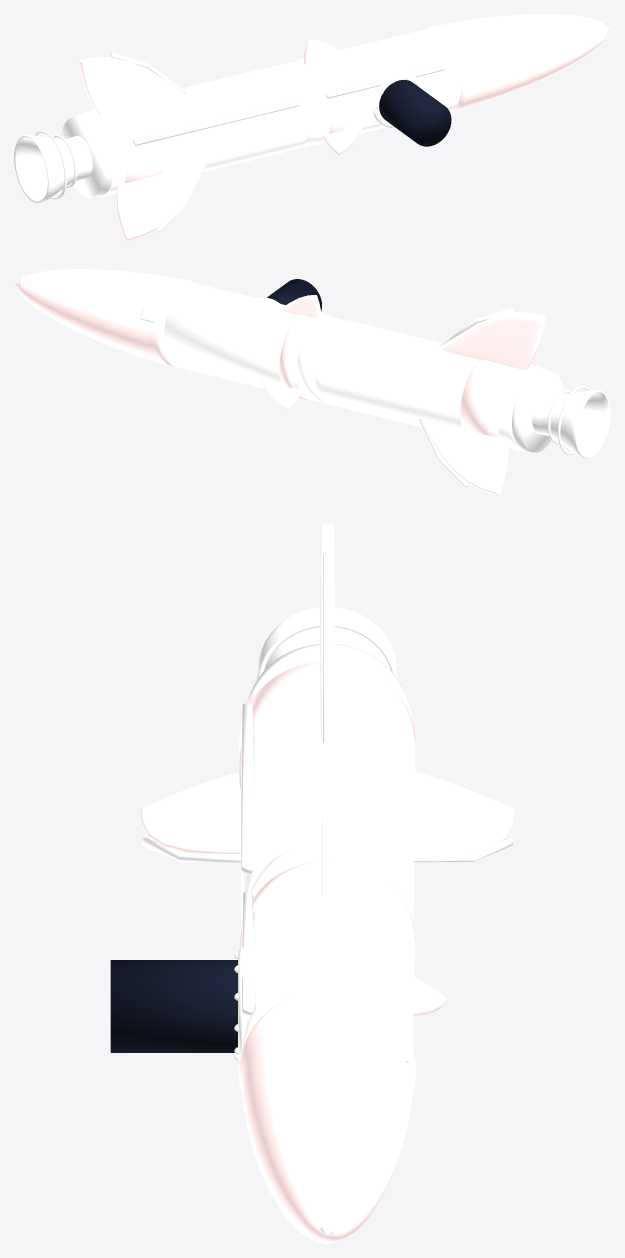
The model's file is roket.glb.
3 renders of one model, top to bottom at view 1: azimuth 30°, elevation 25°; view 2: azimuth 150°, elevation 25°; view 3: azimuth 270°, elevation 25°, orthographic. The views are drawn at different scales.
Visible parts, largest first — view 1: govde_1, burun, govde_2, nozul, kanat_1a, kanat_1b, pencere_oyuk, serit_1, itki_halkasi, ara_halka, kablo_kanali, serit_2 (+6 smaller); view 2: govde_1, govde_2, burun, nozul, kanat_1a, kanat_1c, serit_1, itki_halkasi, ara_halka, serit_2, pencere_oyuk, kanat_2a (+3 smaller); view 3: burun, govde_1, govde_2, pencere_oyuk, kanat_1b, kanat_1c, serit_1, nozul, ara_halka, serit_2, kablo_kanali, kanat_1a_kenar (+6 smaller).
Boxes of the visible parts, <box> form: govde_1: <box>81,65,309,196</box>; burun: <box>428,14,607,112</box>; govde_2: <box>296,28,461,144</box>; nozul: <box>14,135,92,203</box>; kanat_1a: <box>79,57,184,115</box>; kanat_1b: <box>116,164,202,240</box>; pencere_oyuk: <box>379,80,451,146</box>; serit_1: <box>91,104,164,194</box>; itki_halkasi: <box>61,113,112,197</box>; ara_halka: <box>279,60,328,147</box>; kablo_kanali: <box>133,100,300,145</box>; serit_2: <box>296,58,345,144</box>; govde_1: <box>315,320,543,451</box>; govde_2: <box>163,283,328,399</box>; burun: <box>17,269,196,367</box>; nozul: <box>532,390,610,458</box>; kanat_1a: <box>440,312,545,370</box>; kanat_1c: <box>422,419,508,495</box>; serit_1: <box>460,359,533,449</box>; itki_halkasi: <box>512,368,563,452</box>; ara_halka: <box>296,315,345,402</box>; serit_2: <box>279,313,328,399</box>; pencere_oyuk: <box>267,279,321,311</box>; kanat_2a: <box>279,295,320,319</box>; burun: <box>238,990,415,1243</box>; govde_1: <box>241,651,413,922</box>; govde_2: <box>241,876,413,1052</box>; pencere_oyuk: <box>110,960,237,1052</box>; kanat_1b: <box>140,772,240,853</box>; kanat_1c: <box>414,772,514,853</box>; serit_1: <box>239,661,415,790</box>; nozul: <box>258,607,396,672</box>; ara_halka: <box>248,842,412,921</box>; serit_2: <box>239,861,415,966</box>; kablo_kanali: <box>241,702,254,874</box>; kanat_1a_kenar: <box>322,554,331,742</box>.
Size of what is drawn, in the model's own units: 6.18 by 1.5 by 1.86.
